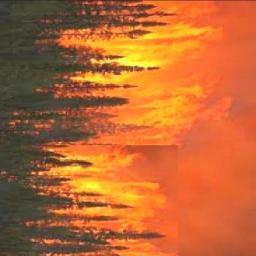Large fire: (32, 0, 256, 256)
